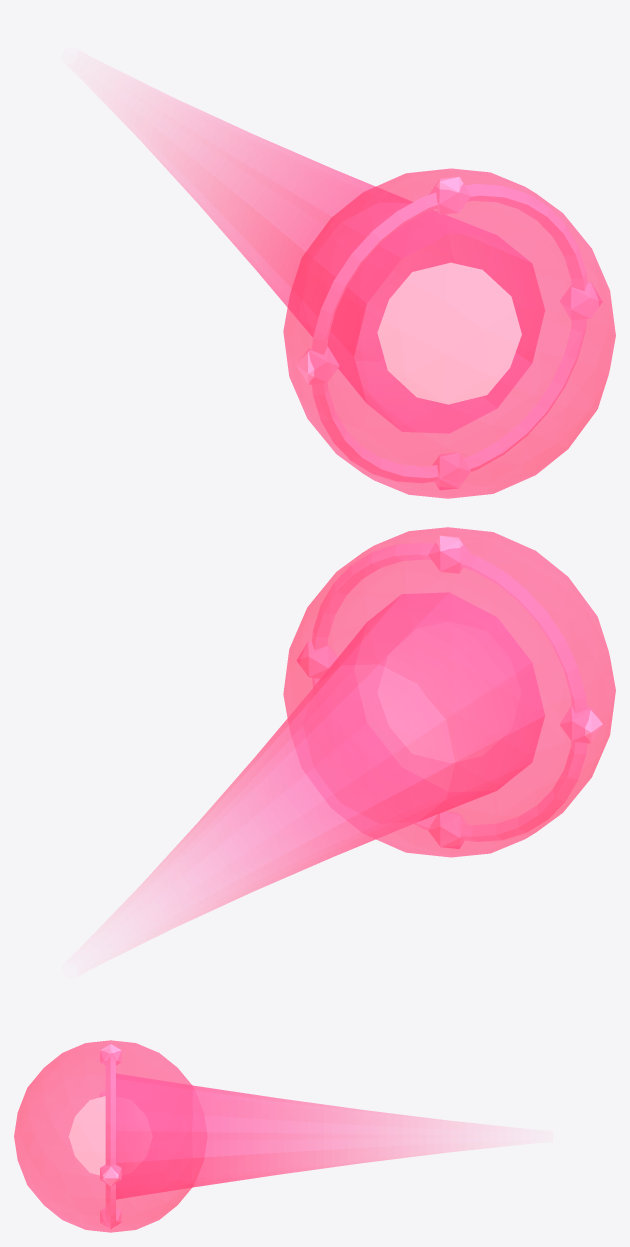
Rendered from hex_bolt.glb.
The picture shows the model from 3 angles, top to bottom: view 1: azimuth 30°, elevation 25°; view 2: azimuth 150°, elevation 25°; view 3: azimuth 270°, elevation 25°; orthographic projection. The views are drawn at different scales.
Visible parts, largest first — view 1: glow, tail, ring, core; view 2: glow, tail, ring, core; view 3: glow, tail, ring, core.
Part boxes in pixels (<box>): glow: <box>283,168,615,498</box>; tail: <box>102,73,544,433</box>; ring: <box>296,176,602,489</box>; core: <box>377,262,521,404</box>; glow: <box>283,527,615,857</box>; tail: <box>102,592,544,952</box>; ring: <box>296,535,602,848</box>; core: <box>378,648,475,762</box>; glow: <box>14,1040,207,1232</box>; tail: <box>116,1073,504,1199</box>; ring: <box>100,1043,121,1229</box>; core: <box>68,1096,105,1175</box>.
Size of the model in its own units: 0.9421 by 0.9421 by 2.86.
4 materials, 4 textured.
